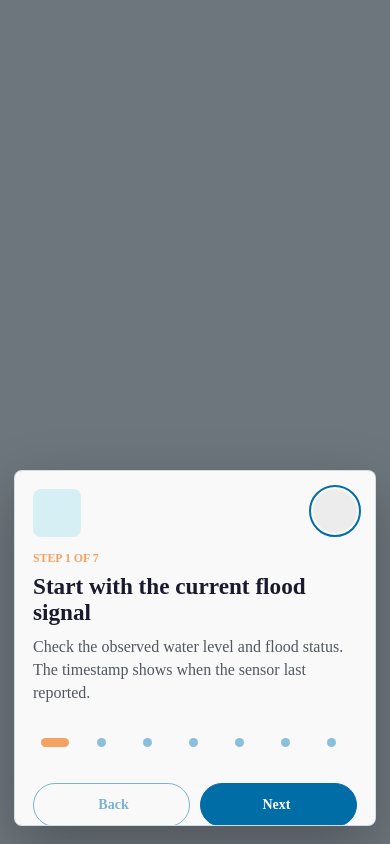
Test: optional guided tour accessibility › updates its accessible title during navigation and respects disabled first-step Back
This screenshot has width=390, height=844.
Expected: the button "Back" is disabled, [33,783,190,826]
Click the button "Next" at (278, 805), box [200,783,357,827]
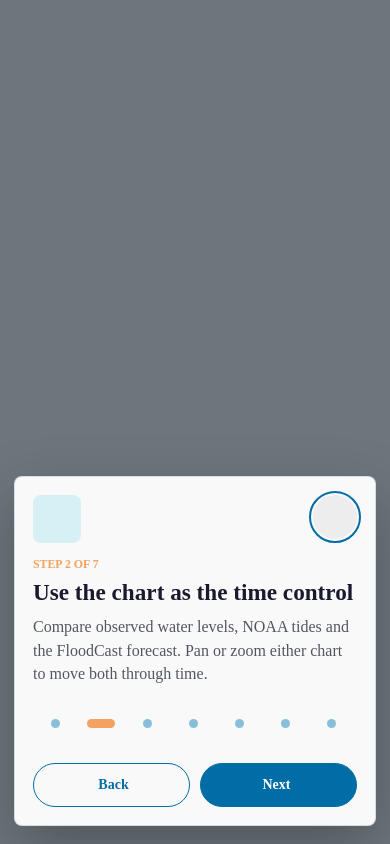
Result: the dialog "Use the chart as the time control" is shown
Click the button "Back" at (112, 785), box [33,763,190,807]
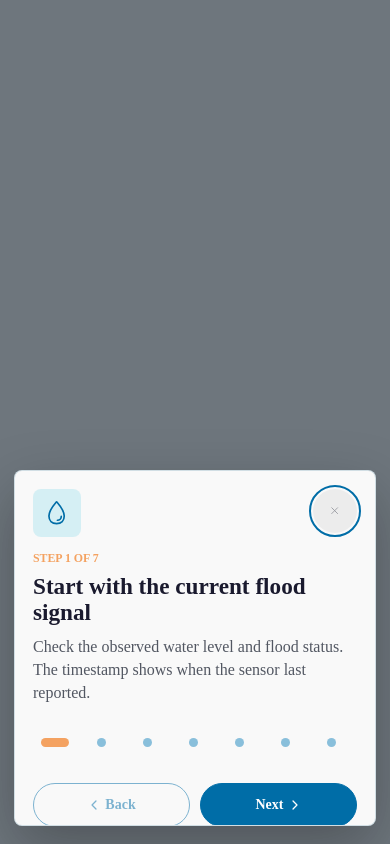
Result: the dialog "Start with the current flood signal" is shown
